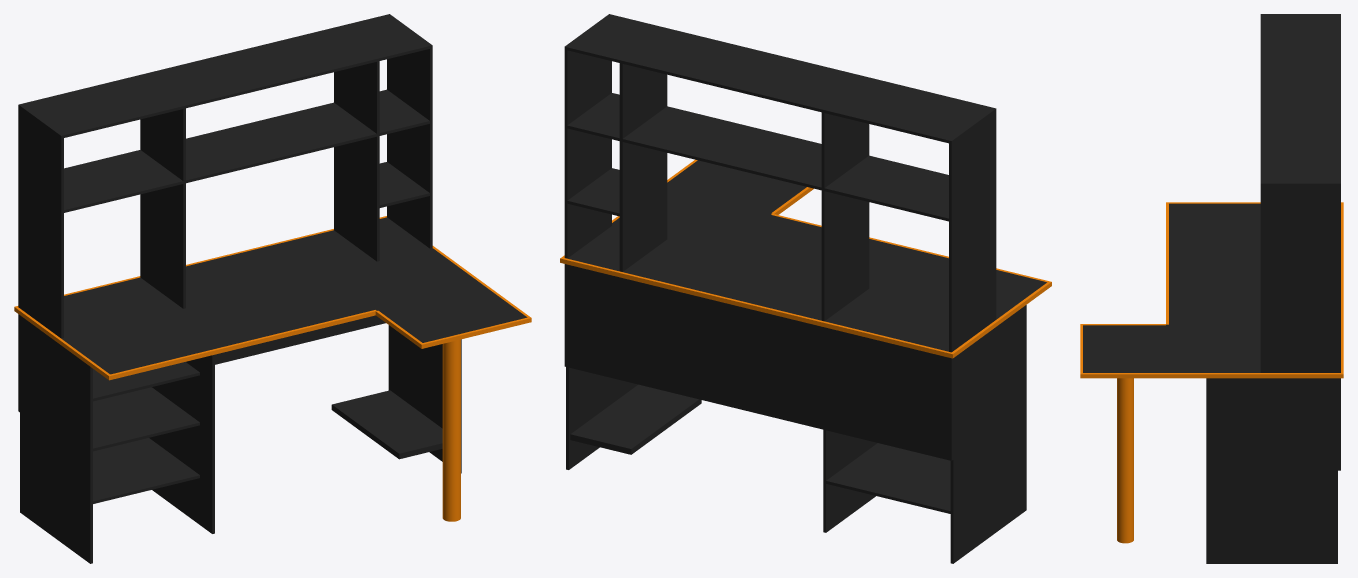
Rendered from cabinet01.glb.
3 renders of one model, left to right at view 1: azimuth 30°, elevation 25°; view 2: azimuth 150°, elevation 25°; view 3: azimuth 270°, elevation 25°, orthographic. The views are drawn at different scales.
Parts seen in each view (by area): view 1: base, orange; view 2: base, orange; view 3: base, orange.
Part boxes in pixels (left/top/right/bottom): base: left=18, top=14, right=527, bottom=563; orange: left=14, top=216, right=531, bottom=521; base: left=564, top=14, right=1046, bottom=563; orange: left=560, top=159, right=1051, bottom=358; base: left=1083, top=14, right=1340, bottom=563; orange: left=1080, top=202, right=1343, bottom=543.
Size of the model in its own units: 8.18 by 8.44 by 5.3.
